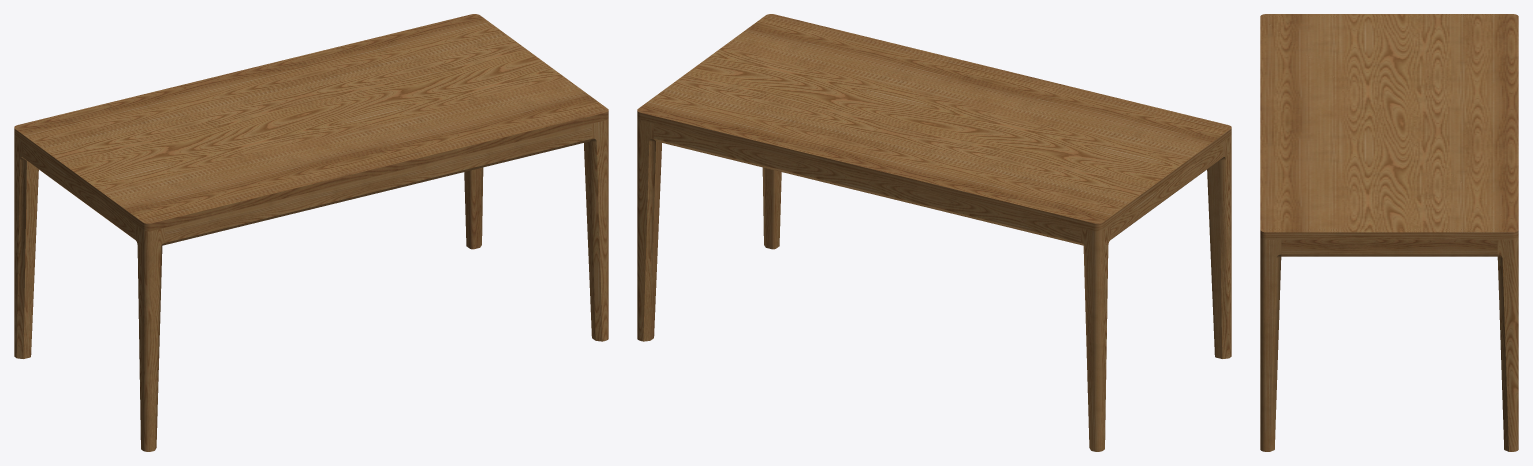
File: table-f46aef15.glb
3 renders of one model, left to right at view 1: azimuth 30°, elevation 25°; view 2: azimuth 150°, elevation 25°; view 3: azimuth 270°, elevation 25°, orthographic. The views are drawn at different scales.
Parts seen in each view (by area): view 1: Top, Legs, Long, Short; view 2: Top, Legs, Long, Short; view 3: Top, Legs, Short.
Boxes of the visible parts, box(x1,y1,x2,y2) form: Top: box(14, 14, 608, 231); Legs: box(14, 119, 608, 451); Long: box(163, 123, 592, 245); Short: box(22, 142, 134, 239); Top: box(637, 14, 1231, 231); Legs: box(637, 119, 1231, 451); Long: box(653, 123, 1082, 245); Short: box(1111, 142, 1223, 239); Top: box(1260, 14, 1518, 239); Legs: box(1260, 238, 1518, 451); Short: box(1281, 239, 1497, 256).
Bounding box in the file's own units: 1.6 × 0.75 × 0.8.
1 material, 1 textured.
